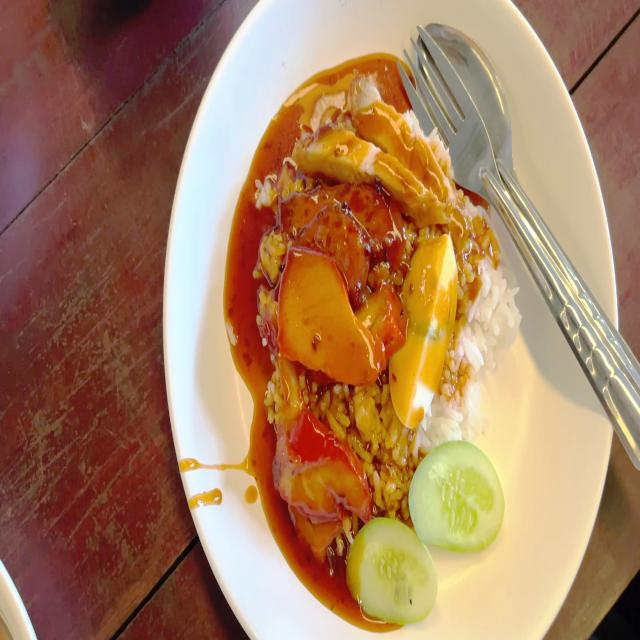chainese_sausage: (287, 170, 407, 274)
crispy_pork: (283, 80, 466, 219)
cucumber: (409, 438, 505, 553), (347, 510, 438, 622)
red_pork: (279, 248, 393, 373), (279, 394, 361, 552)
red_pork_and_crispy_pork: (268, 84, 521, 627)
